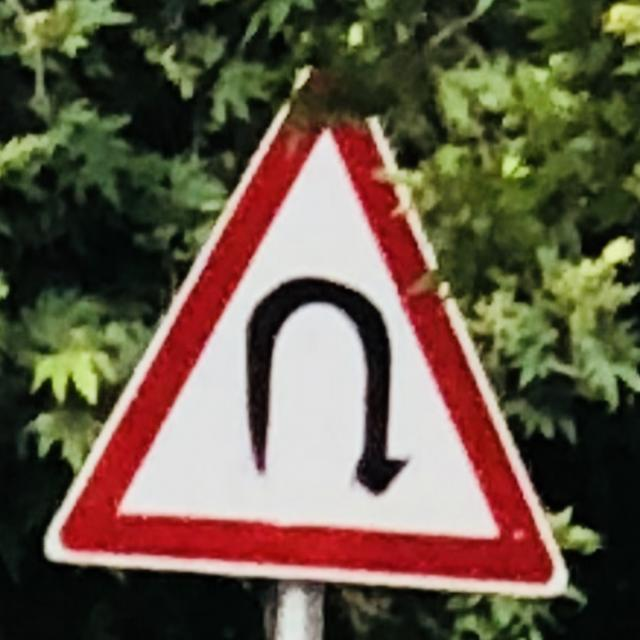u turn: (50, 54, 557, 606)
